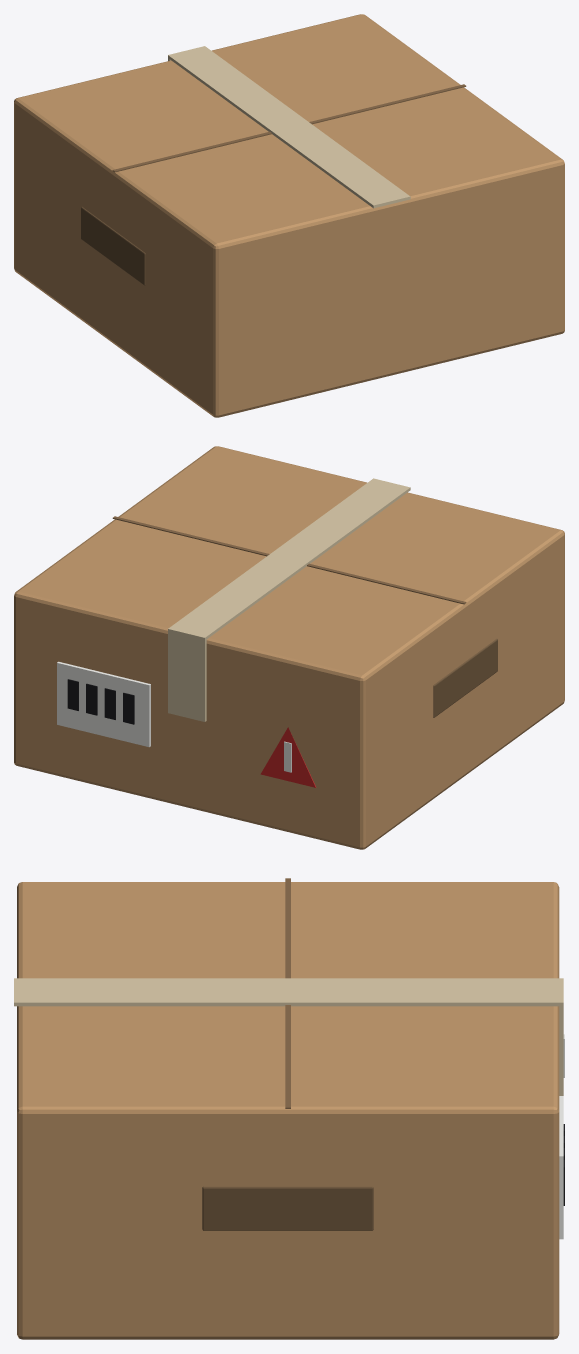
The model's file is moving_box.fbx.
3 views of the same model, one above another, from view 1: azimuth 30°, elevation 25°; view 2: azimuth 150°, elevation 25°; view 3: azimuth 270°, elevation 25° (orthographic). The views are drawn at different scales.
Visible parts, largest first — view 1: Moving Box; view 2: Moving Box; view 3: Moving Box.
Part boxes in pixels (<box>): Moving Box: <box>14,14,564,417</box>; Moving Box: <box>14,446,564,849</box>; Moving Box: <box>14,878,564,1339</box>.
Size of the model in its own units: 1.91 by 0.915 by 1.93.
